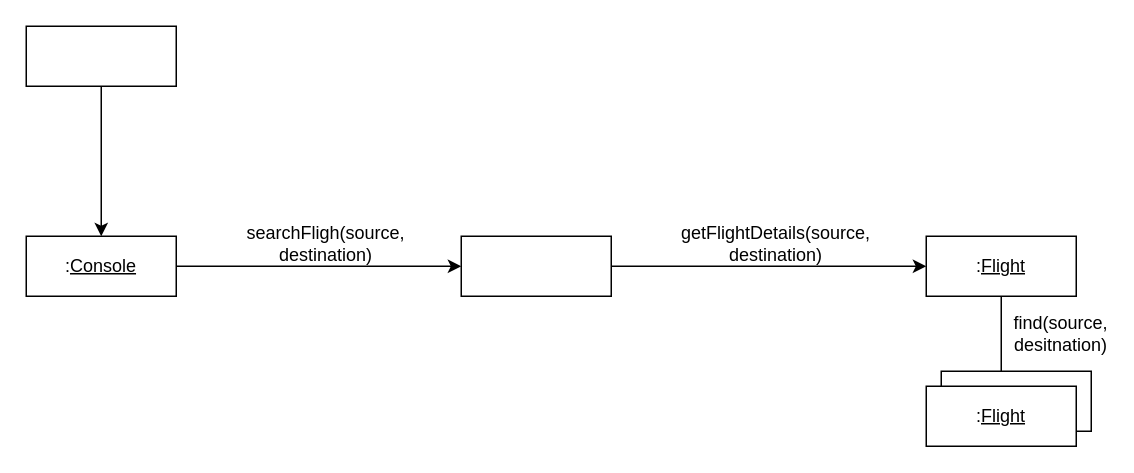
This 1134x473 diagram has some shape labels left out. The shapes that lost their labels are listed below. From the top down, each one's box as (x1, y1, x2, y2) in pixels, then its label:
(25, 25, 176, 86): : User
(460, 235, 611, 296): : Airport
